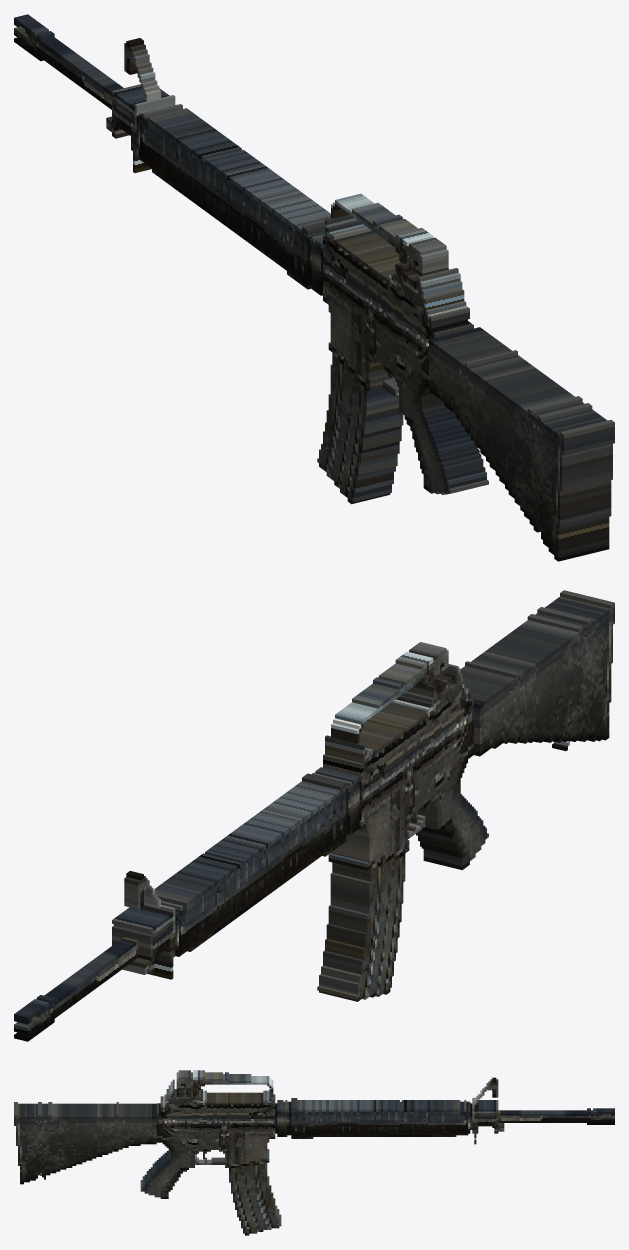
3 views of the same model, one above another, from view 1: azimuth 30°, elevation 25°; view 2: azimuth 150°, elevation 25°; view 3: azimuth 270°, elevation 25° (orthographic). The views are drawn at different scales.
Parts seen in each view (by area): view 1: download (1); view 2: download (1); view 3: download (1).
Boxes of the visible parts, x1,y1,x2,y2 form: download (1): (14,14,614,561); download (1): (14,590,614,1041); download (1): (14,1070,614,1235).
Bounding box in the file's own units: 0.0517 × 0.2867 × 0.9967.
Materials: 1 (1 with a texture image).
